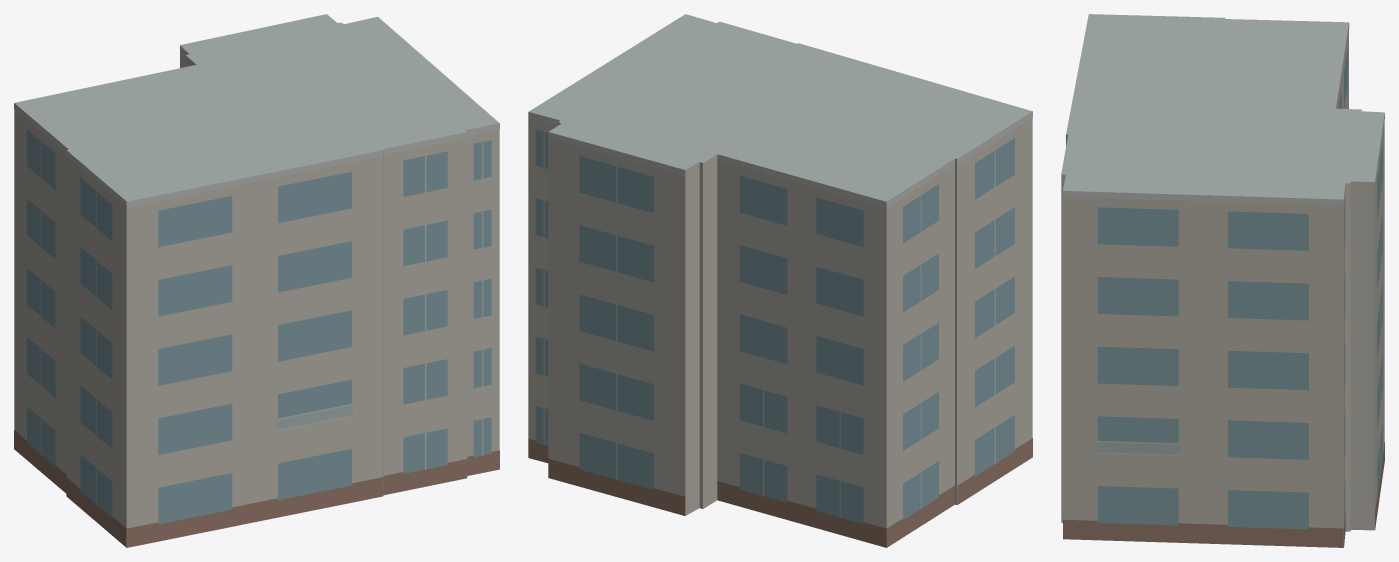
File: survey-upis-32658212.glb
3 views of the same model, side by side, from view 1: azimuth 30°, elevation 25°; view 2: azimuth 150°, elevation 25°; view 3: azimuth 270°, elevation 25° (orthographic).
Visible parts, largest first — view 1: survey-upis-32658212.tmp; view 2: survey-upis-32658212.tmp; view 3: survey-upis-32658212.tmp.
Boxes of the visible parts, <box> form: survey-upis-32658212.tmp: <box>14,14,499,547</box>; survey-upis-32658212.tmp: <box>528,14,1032,547</box>; survey-upis-32658212.tmp: <box>1061,14,1384,547</box>.
Size of the model in its own units: 15.55 by 13.6 by 11.46.
